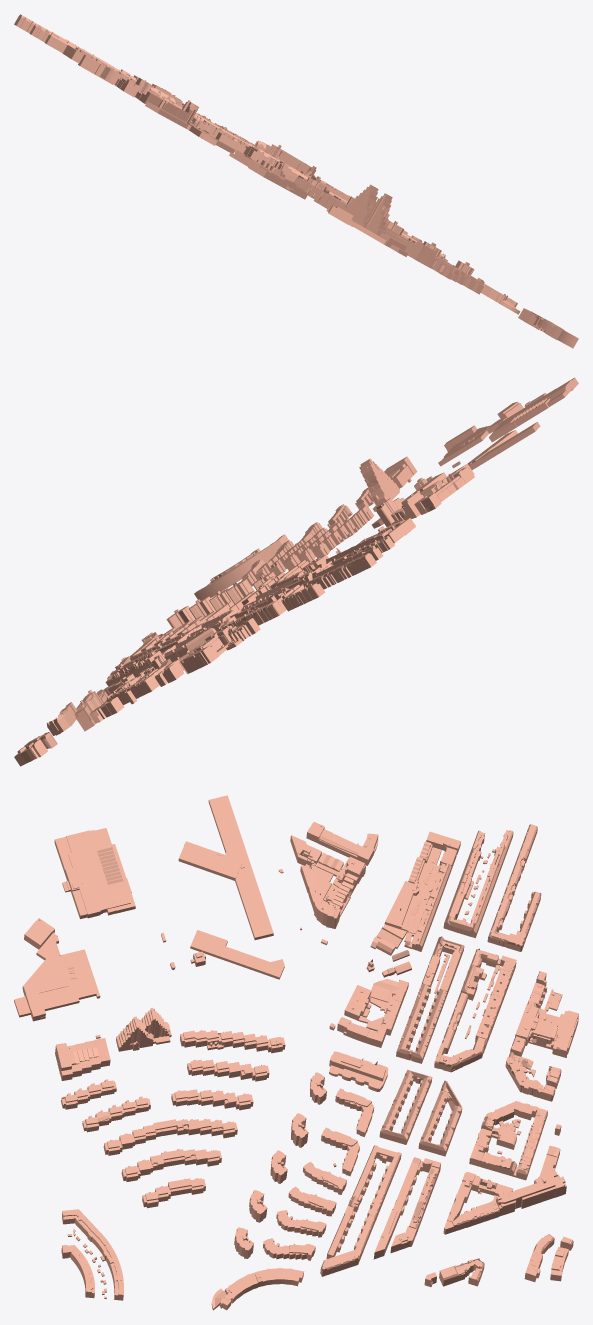
3 renders of one model, top to bottom at view 1: azimuth 30°, elevation 25°; view 2: azimuth 150°, elevation 25°; view 3: azimuth 270°, elevation 25°, orthographic. The views are drawn at different scales.
Size of the model in its own units: 1.81e+07 by 1.39e+07 by 2.2e+07.
